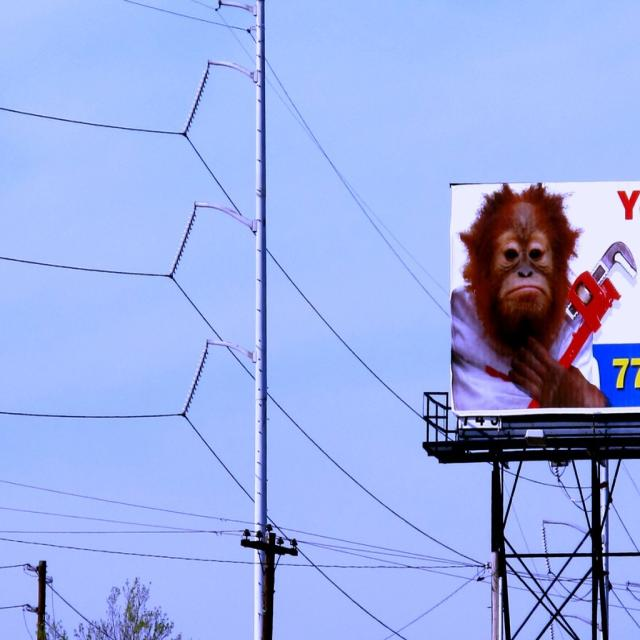Monkey: (452, 183, 612, 409)
